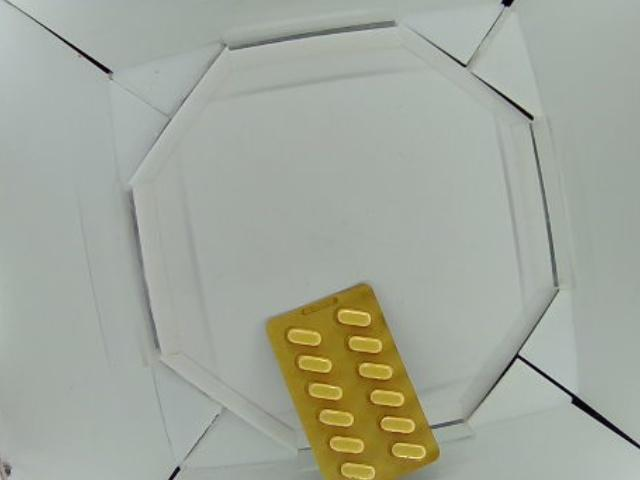Medicine: (263, 285, 440, 480)
